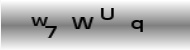7: (44, 25, 59, 39)
U: (99, 7, 117, 21)
W: (70, 16, 95, 30)
q: (129, 19, 146, 33)
w: (30, 16, 49, 27)
